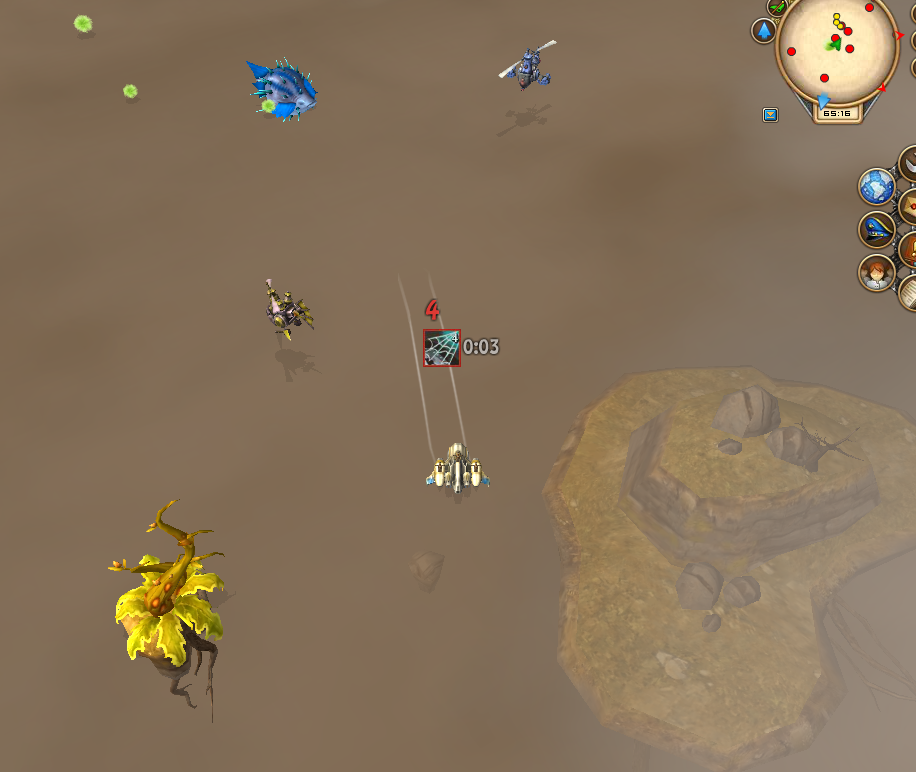dandelion-empty: (105, 500, 240, 713)
fluff: (68, 7, 98, 42), (117, 75, 141, 111), (253, 92, 280, 118)
